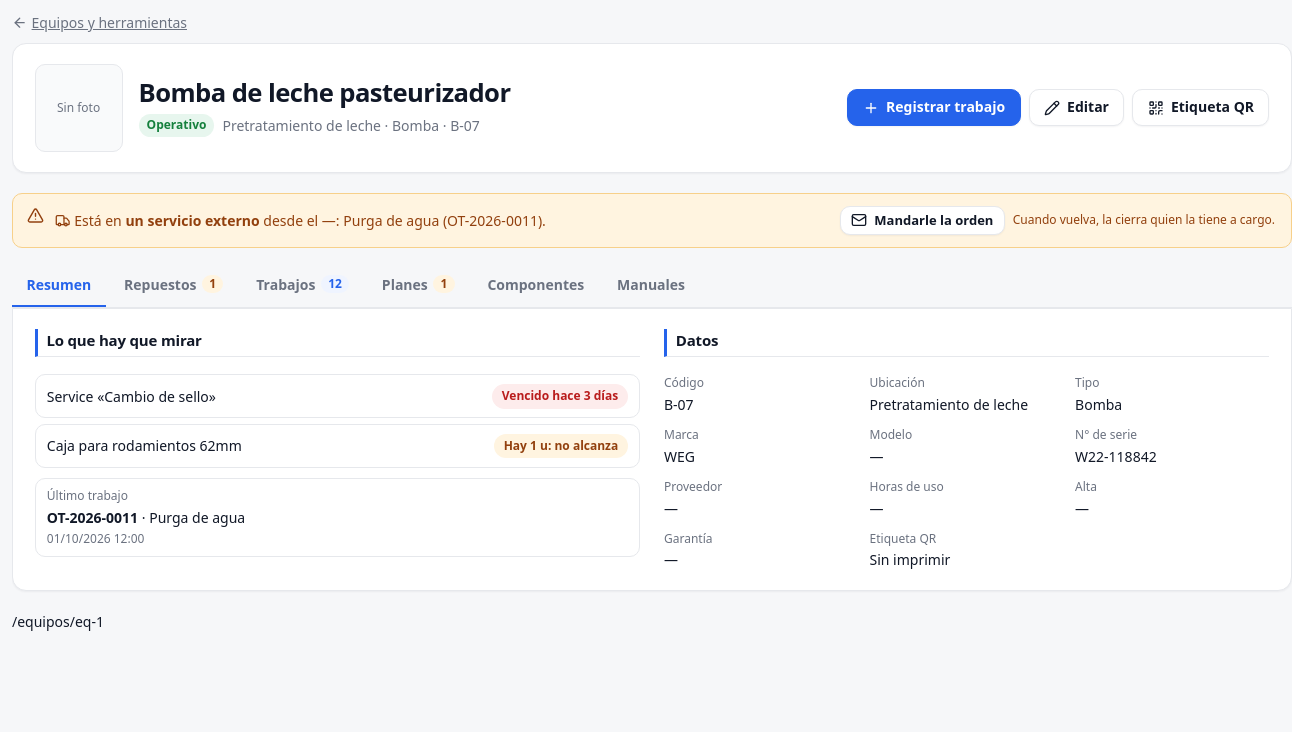
Test: La página del equipo › el resumen junta lo urgente, y cada renglón lleva a su pestaña
Expected: the text "Service «Cambio de sello»" is shown, [47,386,216,407]
Expected: the text "Vencido hace 3 días" is shown, [492,384,628,409]
Click the text "Caja para rodamientos 62mm" at (144, 446), box [47,436,242,456]
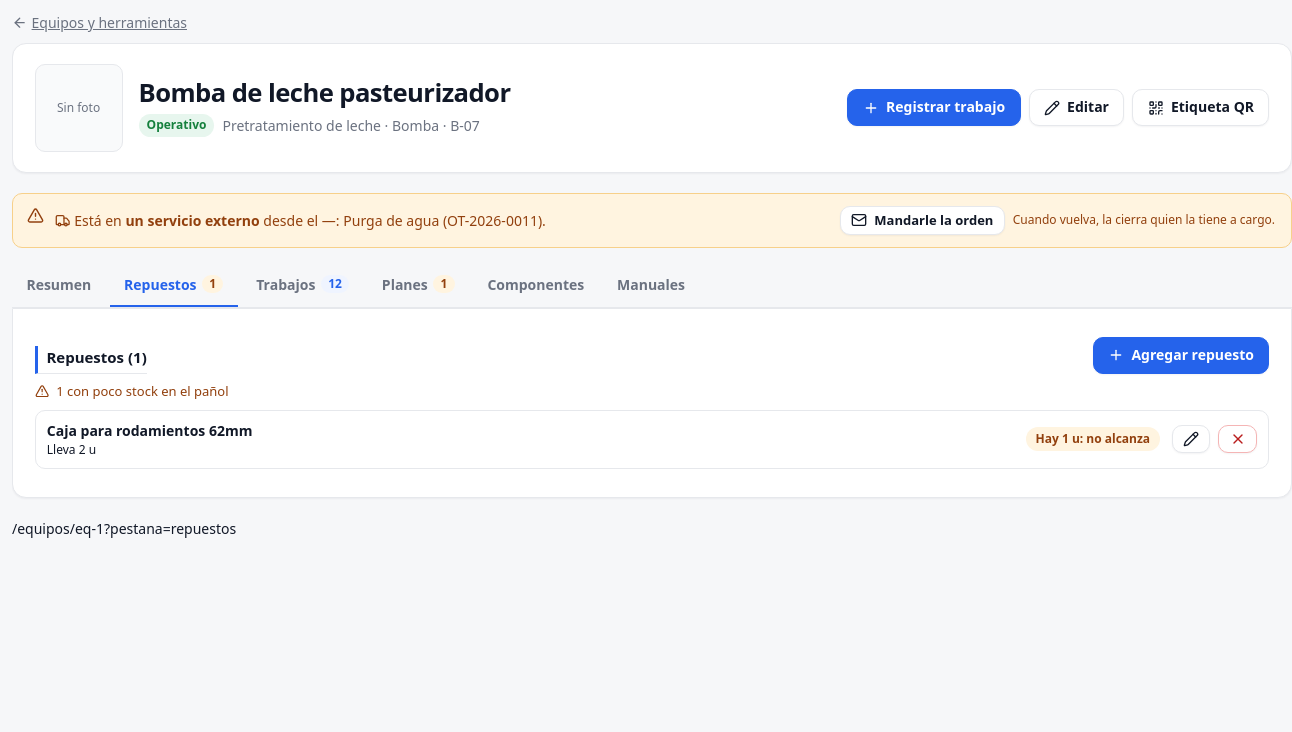
Now the text with test id "direccion" reads "/equipos/eq-1?pestana=repuestos", box [12,518,236,538]
